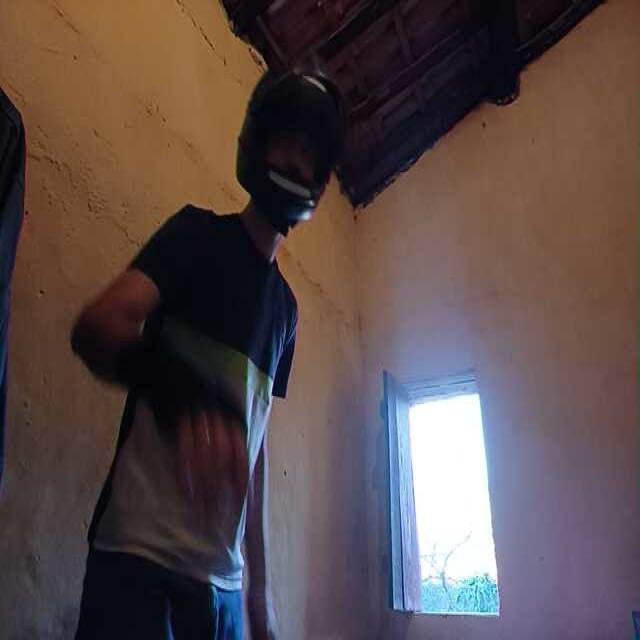capacete: (240, 66, 334, 231)
pessoa: (96, 74, 281, 624)
